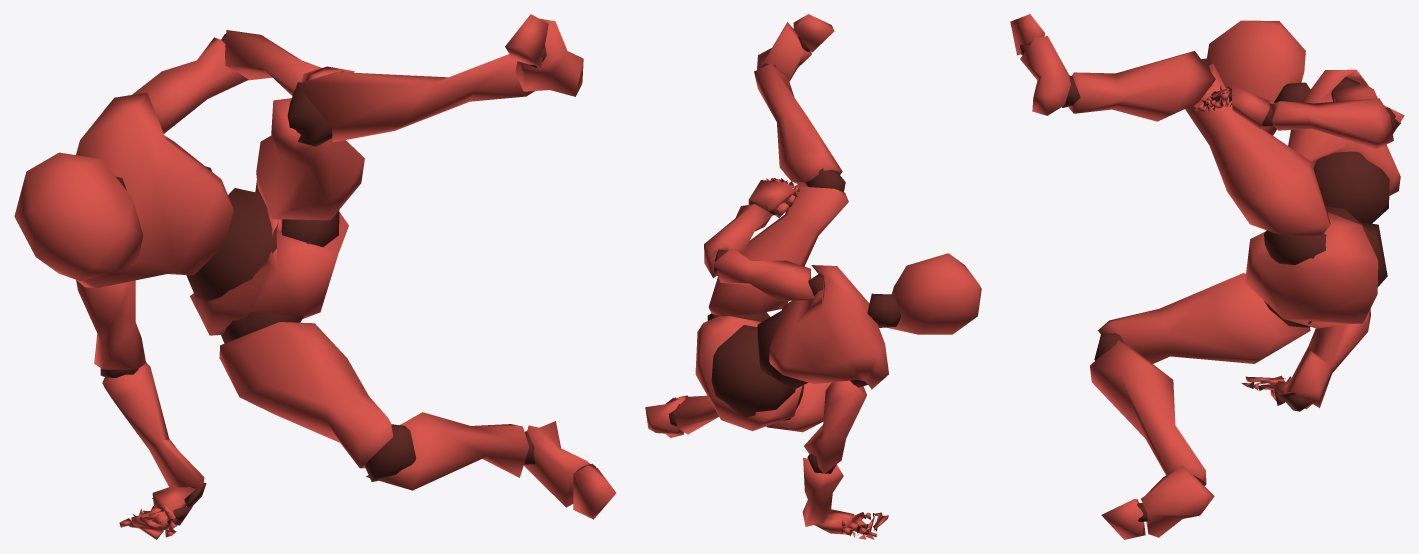
3 renders of one model, left to right at view 1: azimuth 30°, elevation 25°; view 2: azimuth 150°, elevation 25°; view 3: azimuth 270°, elevation 25°, orthographic. The views are drawn at different scales.
Parts seen in each view (by area): view 1: Beta_Surface; view 2: Beta_Surface; view 3: Beta_Surface.
Boxes of the visible parts, box(x1,y1,x2,y2) form: Beta_Surface: box(14, 14, 616, 539); Beta_Surface: box(645, 14, 981, 539); Beta_Surface: box(1010, 14, 1404, 539).
Size of the model in its own units: 11.13 by 12.11 by 9.06.
